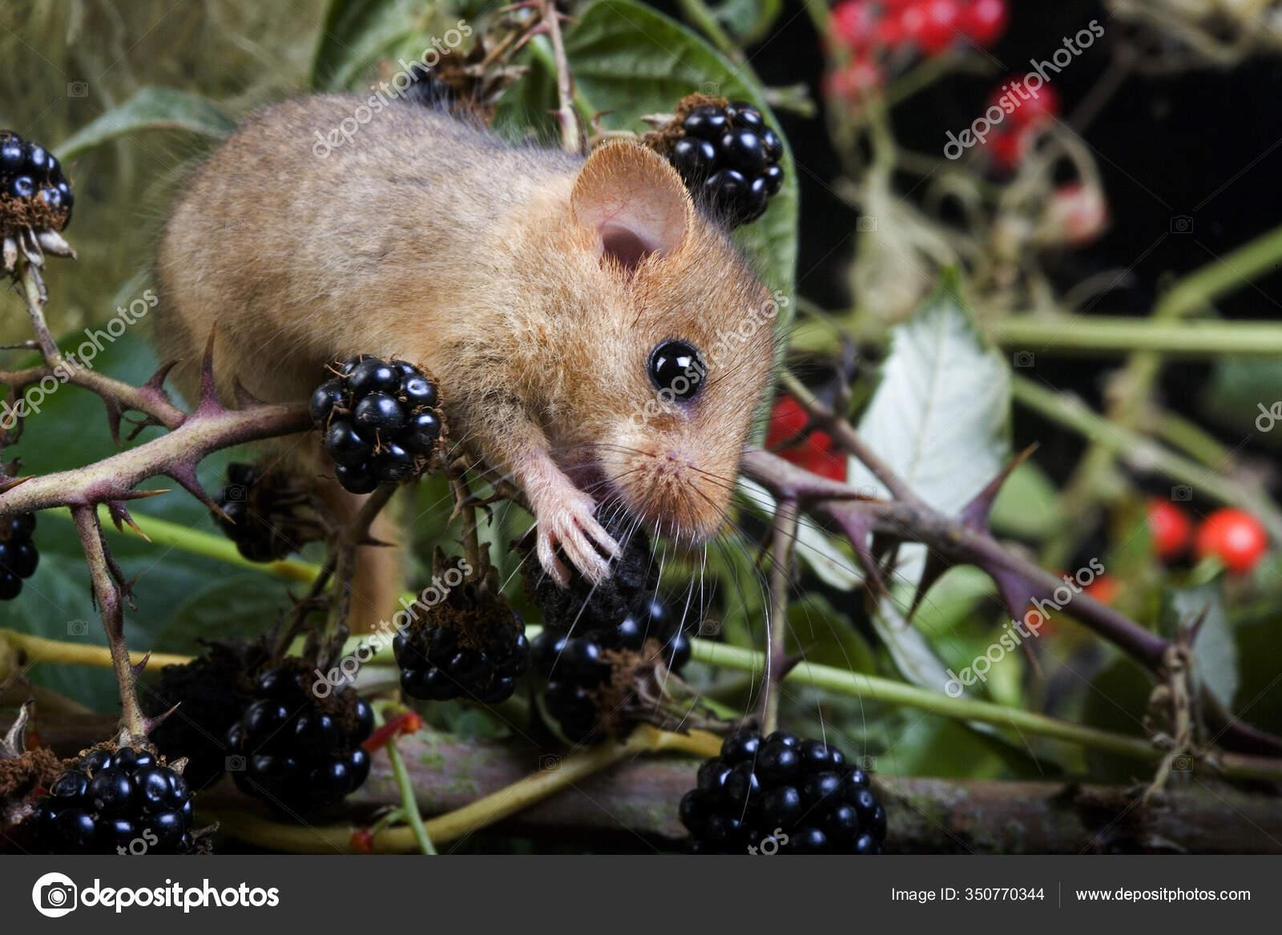rat: (153, 96, 774, 588)
